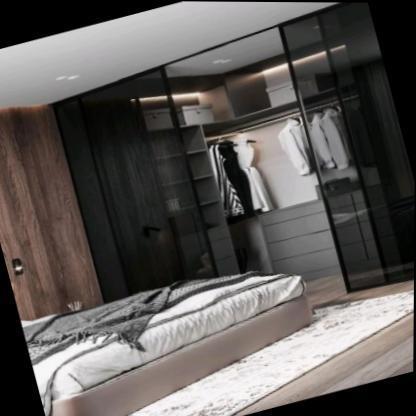Transparent Closet: (49, 2, 415, 306)
